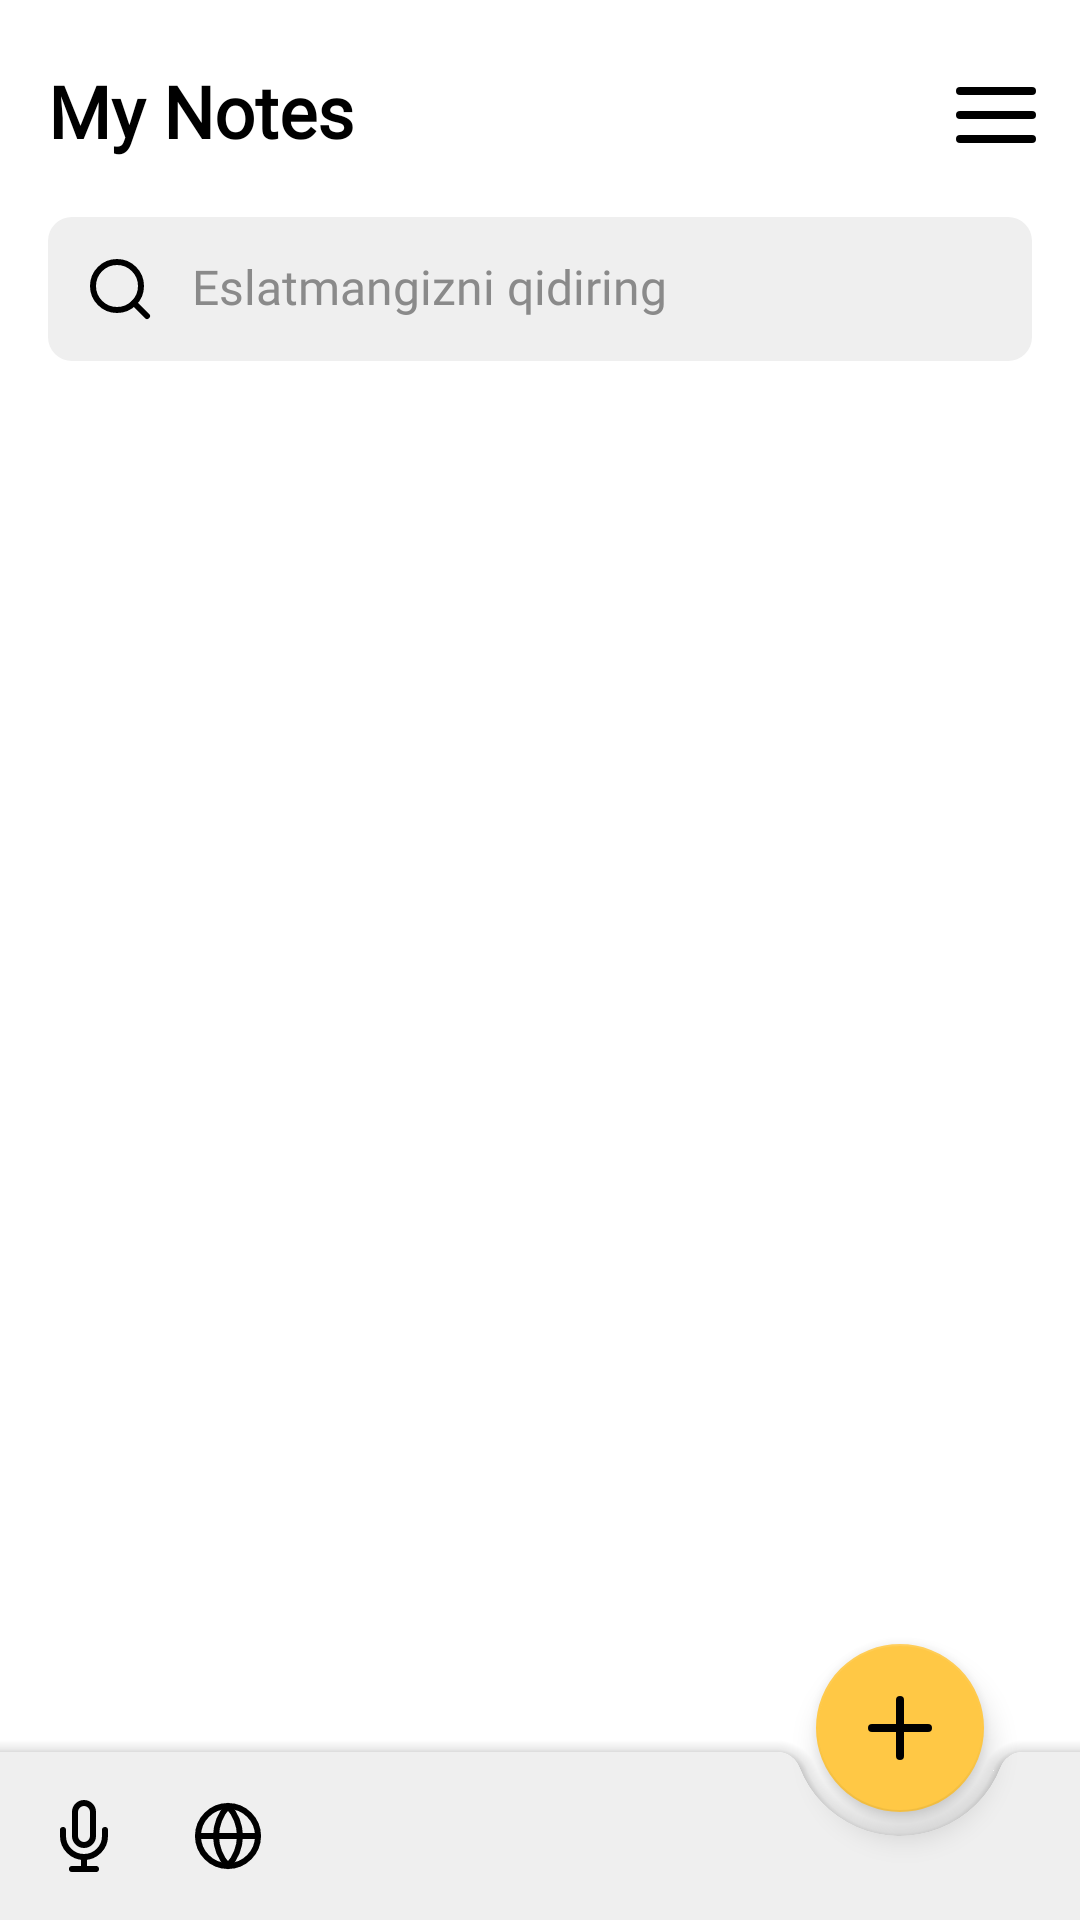

Icon bounding boxes for this 1080x1920 phone screenshot, format (x1, y1, x2, y2):
navigation menu: (956, 87, 1036, 143)
